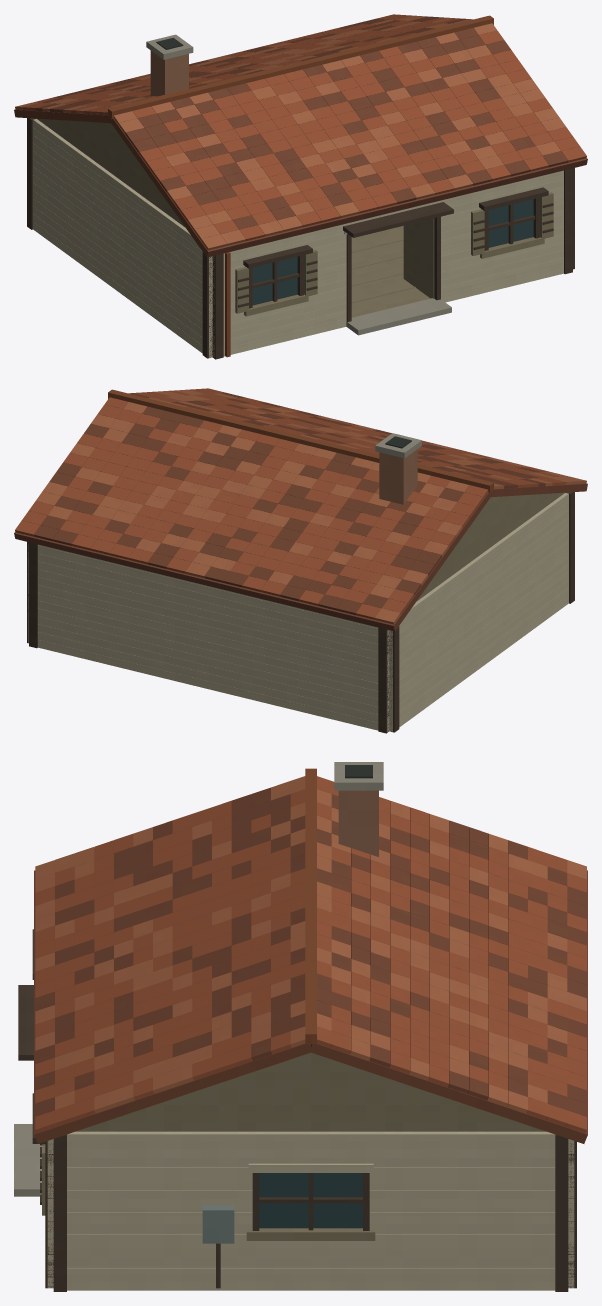
File: cottage.glb
3 renders of one model, top to bottom at view 1: azimuth 30°, elevation 25°; view 2: azimuth 150°, elevation 25°; view 3: azimuth 270°, elevation 25°, orthographic. The views are drawn at different scales.
Parts seen in each view (by area): view 1: Roof, Front, FarSide, Floor, Step; view 2: Roof, Back, FarSide; view 3: Roof, NearSide, Front, Step, Back.
Part boxes in pixels (x1,y1,x2,y2): Roof: [14, 14, 587, 257]; Front: [212, 168, 572, 359]; FarSide: [27, 118, 212, 358]; Floor: [351, 226, 430, 317]; Step: [346, 298, 451, 335]; Roof: [14, 388, 587, 631]; Back: [29, 542, 389, 733]; FarSide: [389, 492, 574, 732]; Roof: [34, 762, 587, 1143]; NearSide: [53, 1131, 568, 1291]; Front: [18, 929, 53, 1288]; Step: [14, 1124, 41, 1196]; Back: [568, 1139, 576, 1288].
Bounding box in the file's own units: 8.55 × 4.71 × 7.81.
Materials: 12 (12 with a texture image).
